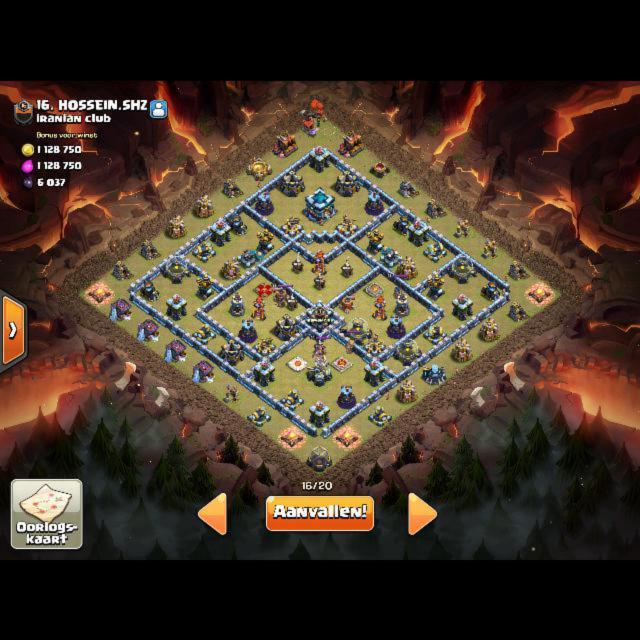AD: (256, 227, 274, 255), (366, 228, 384, 255), (426, 273, 444, 300), (195, 273, 213, 300)
AirSweeper: (273, 286, 290, 305), (339, 295, 356, 314)
BombTower: (395, 291, 410, 315), (230, 291, 245, 315)
Canon: (368, 405, 392, 427), (192, 323, 216, 344), (280, 389, 304, 410), (247, 406, 271, 427), (423, 324, 447, 344), (192, 241, 216, 261), (423, 241, 447, 261)
ClanCastle: (306, 301, 333, 333)
Eagle: (306, 353, 332, 385)
Inferno: (251, 295, 266, 320), (372, 295, 387, 320), (312, 250, 327, 274)
KingPad: (332, 355, 353, 371)
Mortar: (392, 214, 414, 235), (227, 215, 248, 236), (139, 280, 160, 301), (480, 280, 501, 301)
QueenPad: (253, 281, 275, 297)
RcPad: (366, 282, 383, 296)
Scattershot: (237, 247, 264, 269), (379, 245, 401, 269)
TH13: (305, 186, 335, 223)
WardenPad: (288, 356, 307, 370)
WizzTower: (238, 318, 256, 343), (387, 314, 405, 338), (337, 384, 355, 408), (255, 190, 273, 214), (365, 190, 383, 214)
Xbow: (362, 333, 386, 356), (334, 214, 358, 237), (280, 214, 304, 236), (252, 336, 276, 356)
